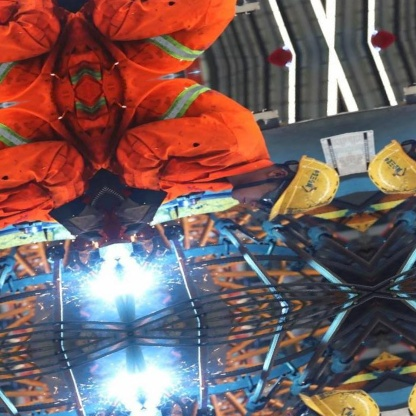vest: (96, 63, 277, 211)
yellow: (253, 145, 351, 227)
